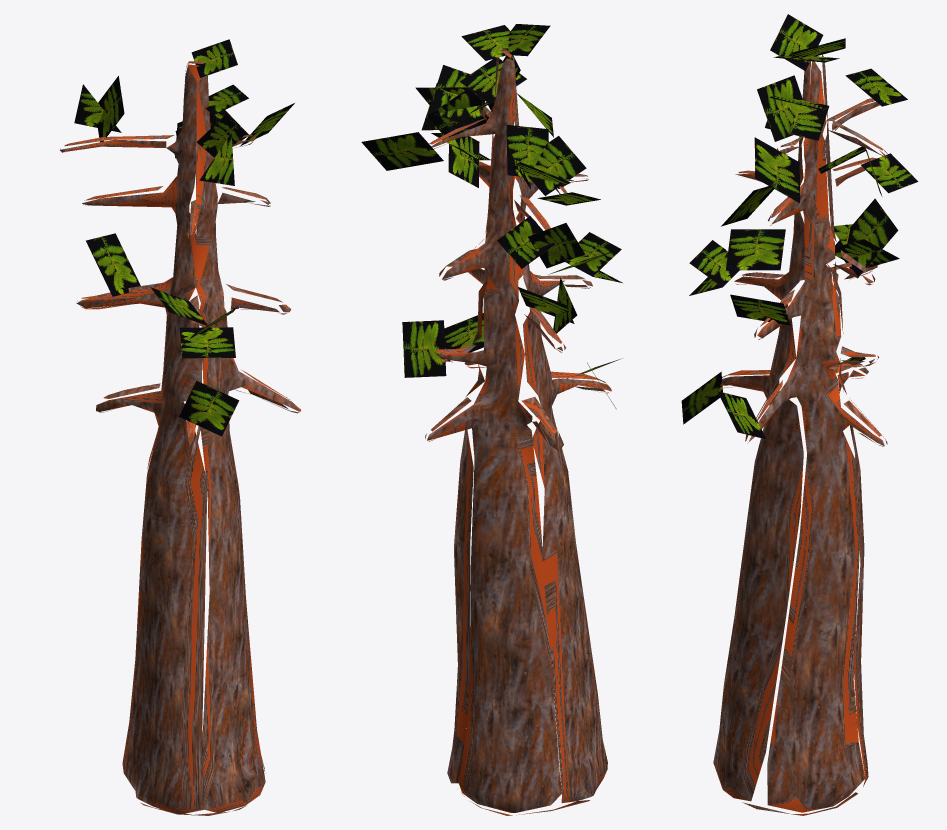
File: giant_redwood.glb
3 views of the same model, side by side, from view 1: azimuth 30°, elevation 25°; view 2: azimuth 150°, elevation 25°; view 3: azimuth 270°, elevation 25° (orthographic). The views are drawn at different scales.
Parts seen in each view (by area): view 1: world; view 2: world; view 3: world.
Boxes of the visible parts, x1,y1,x2,y2 form: world: (60,39,300,815); world: (361,24,622,815); world: (681,14,918,815).
Size of the model in its own units: 3.82 by 12.09 by 3.59.
1 material, 1 textured.
